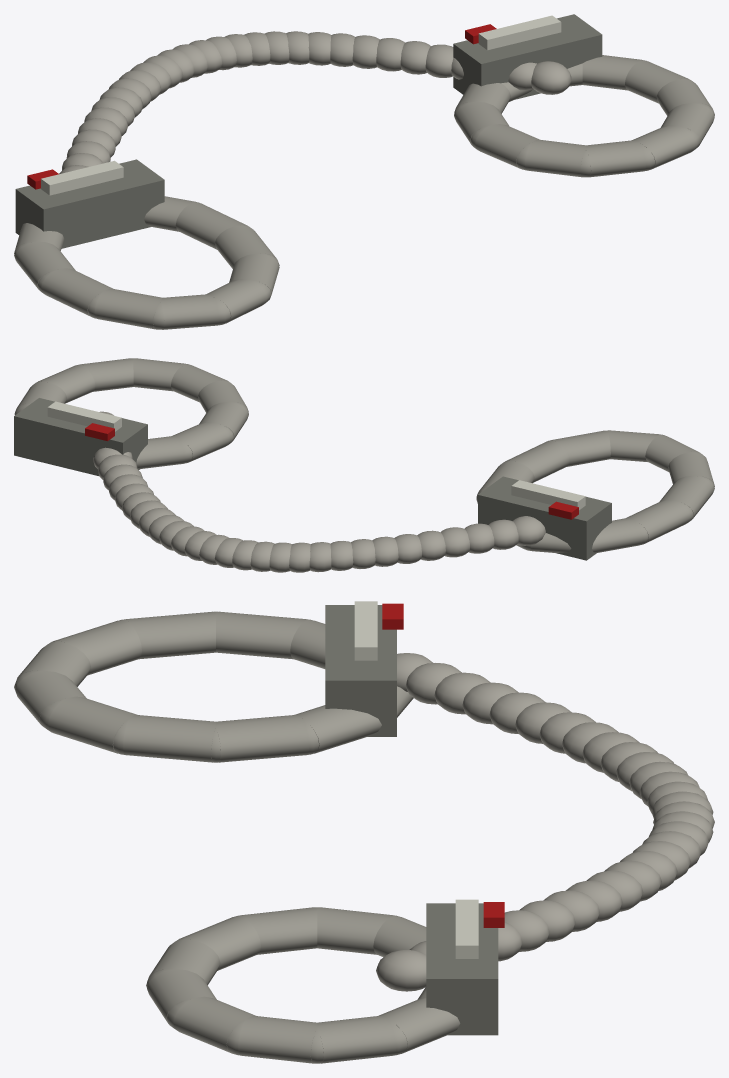
Rendered from CMU3DSteelHandcuffs.glb.
3 renders of one model, top to bottom at view 1: azimuth 30°, elevation 25°; view 2: azimuth 150°, elevation 25°; view 3: azimuth 270°, elevation 25°, orthographic. The views are drawn at different scales.
Parts seen in each view (by area): view 1: curved connecting chain (×26), cuff lock body (×2), lock raised clasp (×2), cuff 1 joined steel arc 8, cuff 1 joined steel arc 7, cuff 2 joined steel arc 8, cuff 2 joined steel arc 9, cuff 1 joined steel arc 9, cuff 1 joined steel arc 1, cuff 2 joined steel arc 7, cuff 2 joined steel arc 10, cuff 1 joined steel arc 6 (+11 smaller); view 2: curved connecting chain (×27), cuff lock body (×2), lock raised clasp (×2), cuff 1 joined steel arc 6, cuff 1 joined steel arc 11, cuff 1 joined steel arc 12, cuff 2 joined steel arc 6, cuff 2 joined steel arc 11, cuff 2 joined steel arc 10, cuff 2 joined steel arc 5, cuff 1 joined steel arc 5, cuff 1 joined steel arc 7 (+11 smaller); view 3: curved connecting chain (×23), cuff lock body (×2), cuff 1 joined steel arc 12, cuff 1 joined steel arc 1, cuff 1 joined steel arc 6, cuff 1 joined steel arc 7, cuff 2 joined steel arc 1, cuff 2 joined steel arc 12, cuff 1 joined steel arc 11, lock raised clasp (×2), cuff 2 joined steel arc 7, cuff 2 joined steel arc 6 (+11 smaller).
Boxes of the visible parts, bbox=[...] form: curved connecting chain (×26): bbox=[66, 31, 571, 163]; cuff lock body (×2): bbox=[15, 14, 602, 248]; lock raised clasp (×2): bbox=[41, 15, 561, 195]; cuff 1 joined steel arc 8: bbox=[94, 288, 162, 329]; cuff 1 joined steel arc 7: bbox=[41, 268, 113, 317]; cuff 2 joined steel arc 8: bbox=[525, 140, 586, 177]; cuff 2 joined steel arc 9: bbox=[586, 140, 645, 177]; cuff 1 joined steel arc 9: bbox=[160, 294, 218, 329]; cuff 1 joined steel arc 1: bbox=[175, 202, 247, 249]; cuff 2 joined steel arc 7: bbox=[475, 124, 540, 168]; cuff 2 joined steel arc 10: bbox=[632, 125, 695, 169]; cuff 1 joined steel arc 6: bbox=[15, 241, 75, 289]; curved connecting chain (×27): bbox=[98, 454, 545, 572]; cuff lock body (×2): bbox=[14, 398, 611, 560]; lock raised clasp (×2): bbox=[47, 401, 585, 509]; cuff 1 joined steel arc 6: bbox=[626, 499, 690, 543]; cuff 1 joined steel arc 11: bbox=[551, 430, 610, 466]; cuff 1 joined steel arc 12: bbox=[505, 441, 569, 482]; cuff 2 joined steel arc 6: bbox=[171, 422, 229, 462]; cuff 2 joined steel arc 11: bbox=[81, 358, 133, 391]; cuff 2 joined steel arc 10: bbox=[133, 358, 184, 391]; cuff 2 joined steel arc 5: bbox=[136, 436, 184, 468]; cuff 1 joined steel arc 5: bbox=[592, 518, 642, 552]; cuff 1 joined steel arc 7: bbox=[659, 475, 713, 519]; curved connecting chain (×23): bbox=[376, 663, 708, 991]; cuff lock body (×2): bbox=[325, 605, 498, 1035]; cuff 1 joined steel arc 12: bbox=[123, 715, 216, 762]; cuff 1 joined steel arc 1: bbox=[215, 715, 308, 762]; cuff 1 joined steel arc 6: bbox=[215, 611, 306, 659]; cuff 1 joined steel arc 7: bbox=[125, 611, 216, 659]; cuff 2 joined steel arc 1: bbox=[316, 1016, 396, 1063]; cuff 2 joined steel arc 12: bbox=[238, 1016, 317, 1063]; cuff 1 joined steel arc 11: bbox=[48, 696, 137, 753]; lock raised clasp (×2): bbox=[354, 601, 478, 958]; cuff 2 joined steel arc 7: bbox=[241, 907, 317, 954]; cuff 2 joined steel arc 6: bbox=[317, 907, 393, 954].
Size of the model in its own units: 0.633 by 0.0512 by 0.43.
